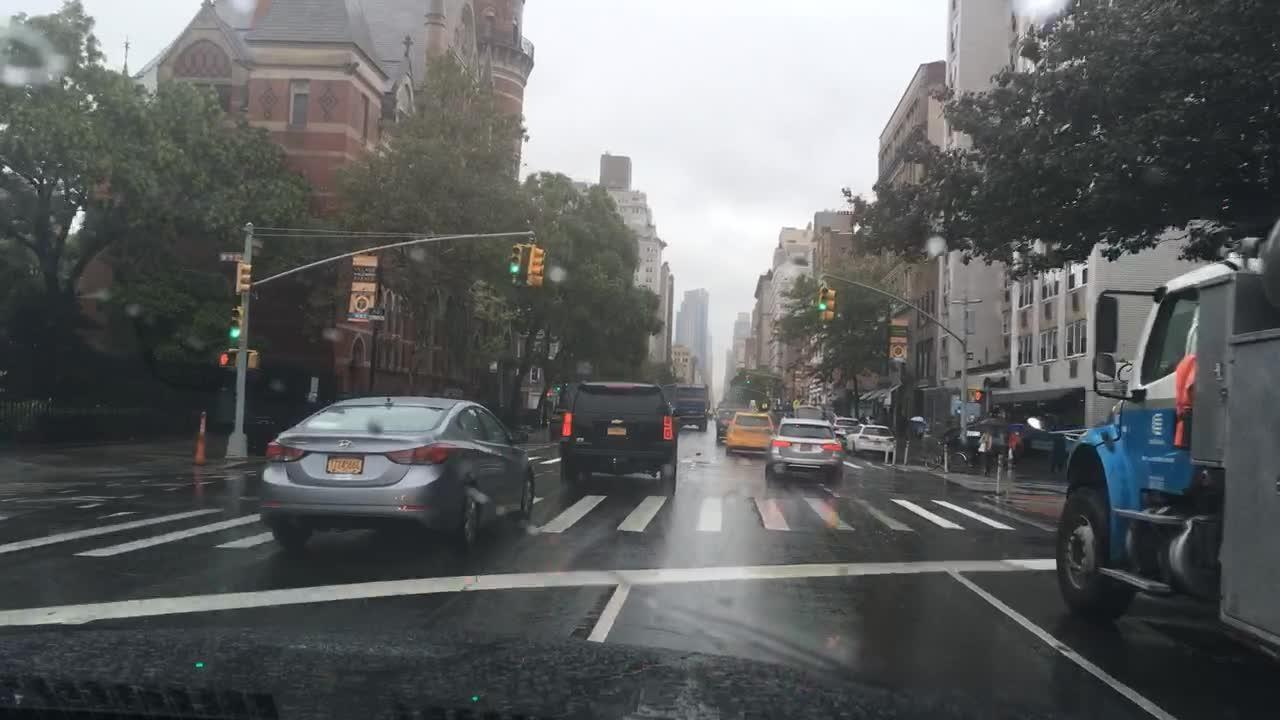Hyundai: (330, 435, 361, 453)
